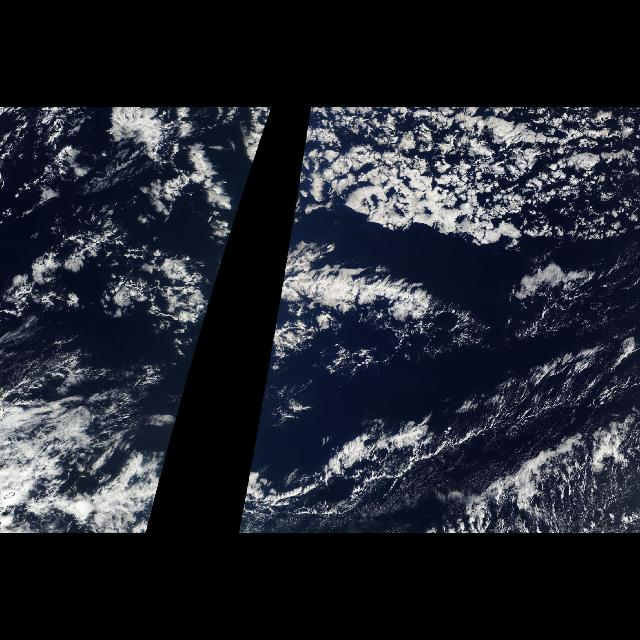Fish: (268, 229, 632, 529), (57, 232, 231, 372)
